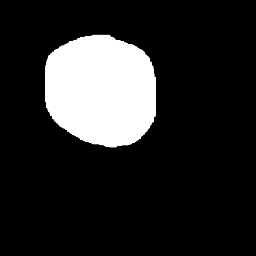mass: (50, 30, 160, 129)
